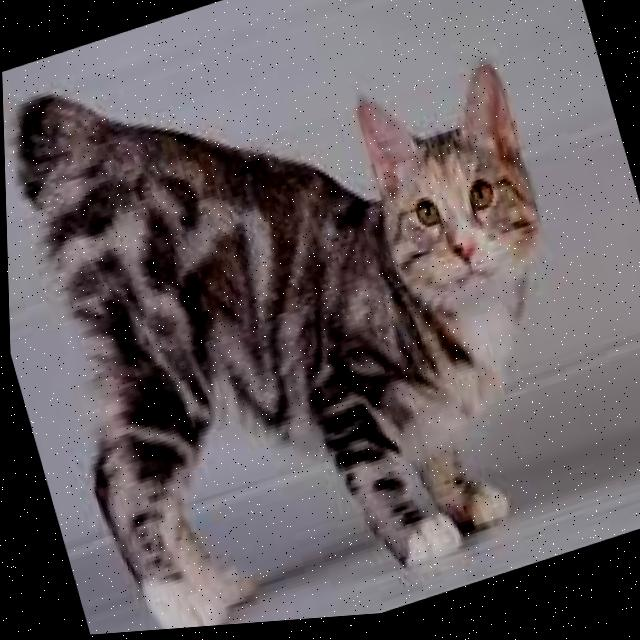American Bobtail: (0, 0, 626, 640)
